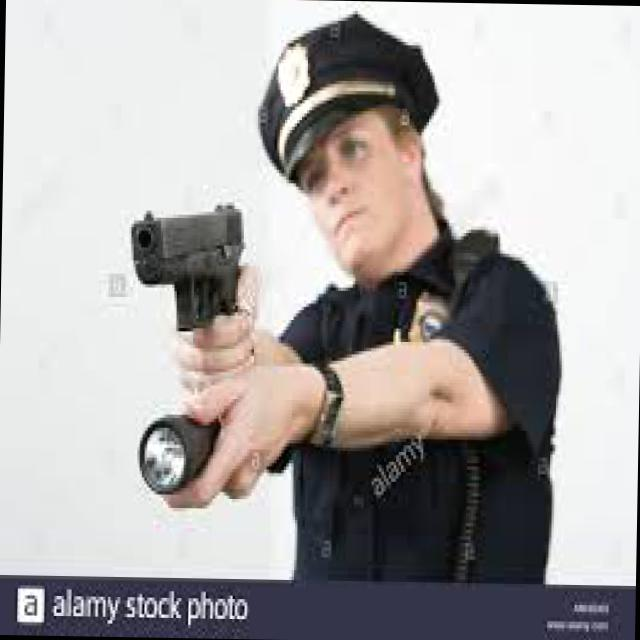handgun: (124, 190, 247, 338)
